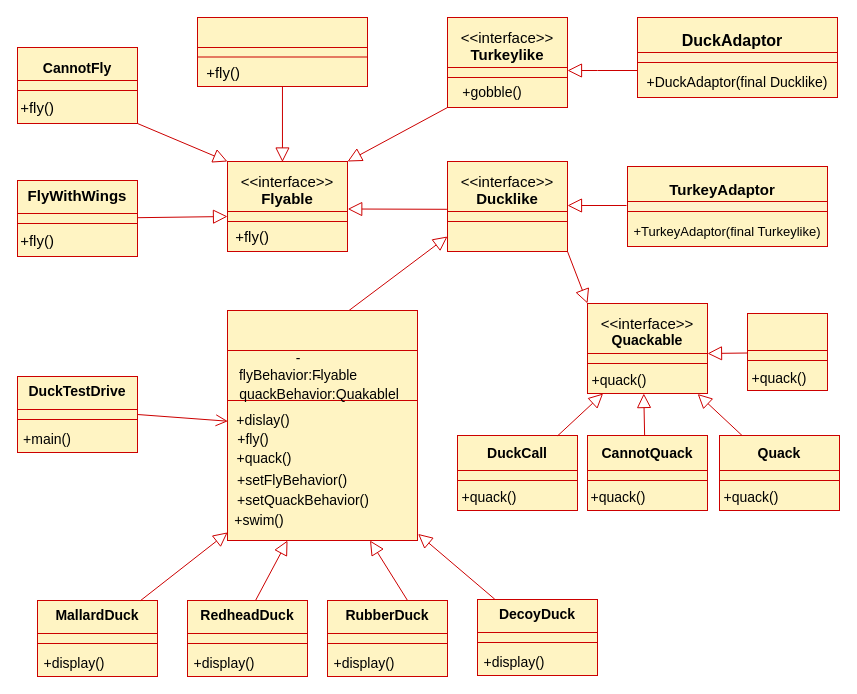
Image size: 857x694. Some labels were removed from this diagram. The shapes that lost their labels are listed below. From the top down, each one's centre as x and y in pixels, then its label:
At (x=282, y=32): "FlyRocketPowered".
At (x=322, y=330): "Duck".
At (x=787, y=331): "Squeak".
